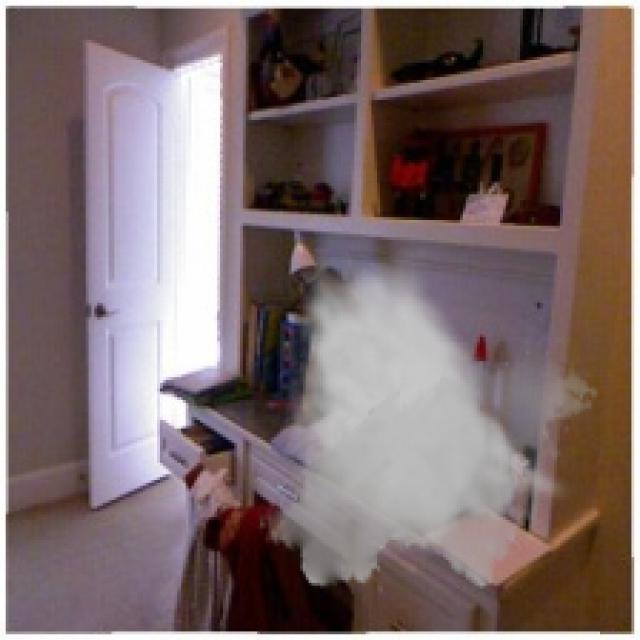Smoke: (257, 248, 600, 598)
